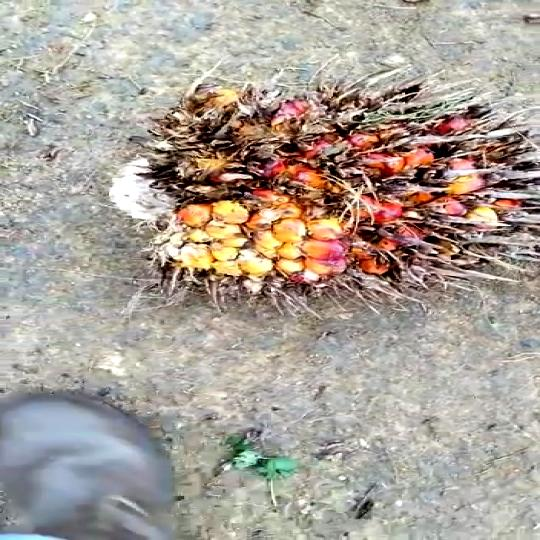terlalu masak: (115, 81, 528, 290)
